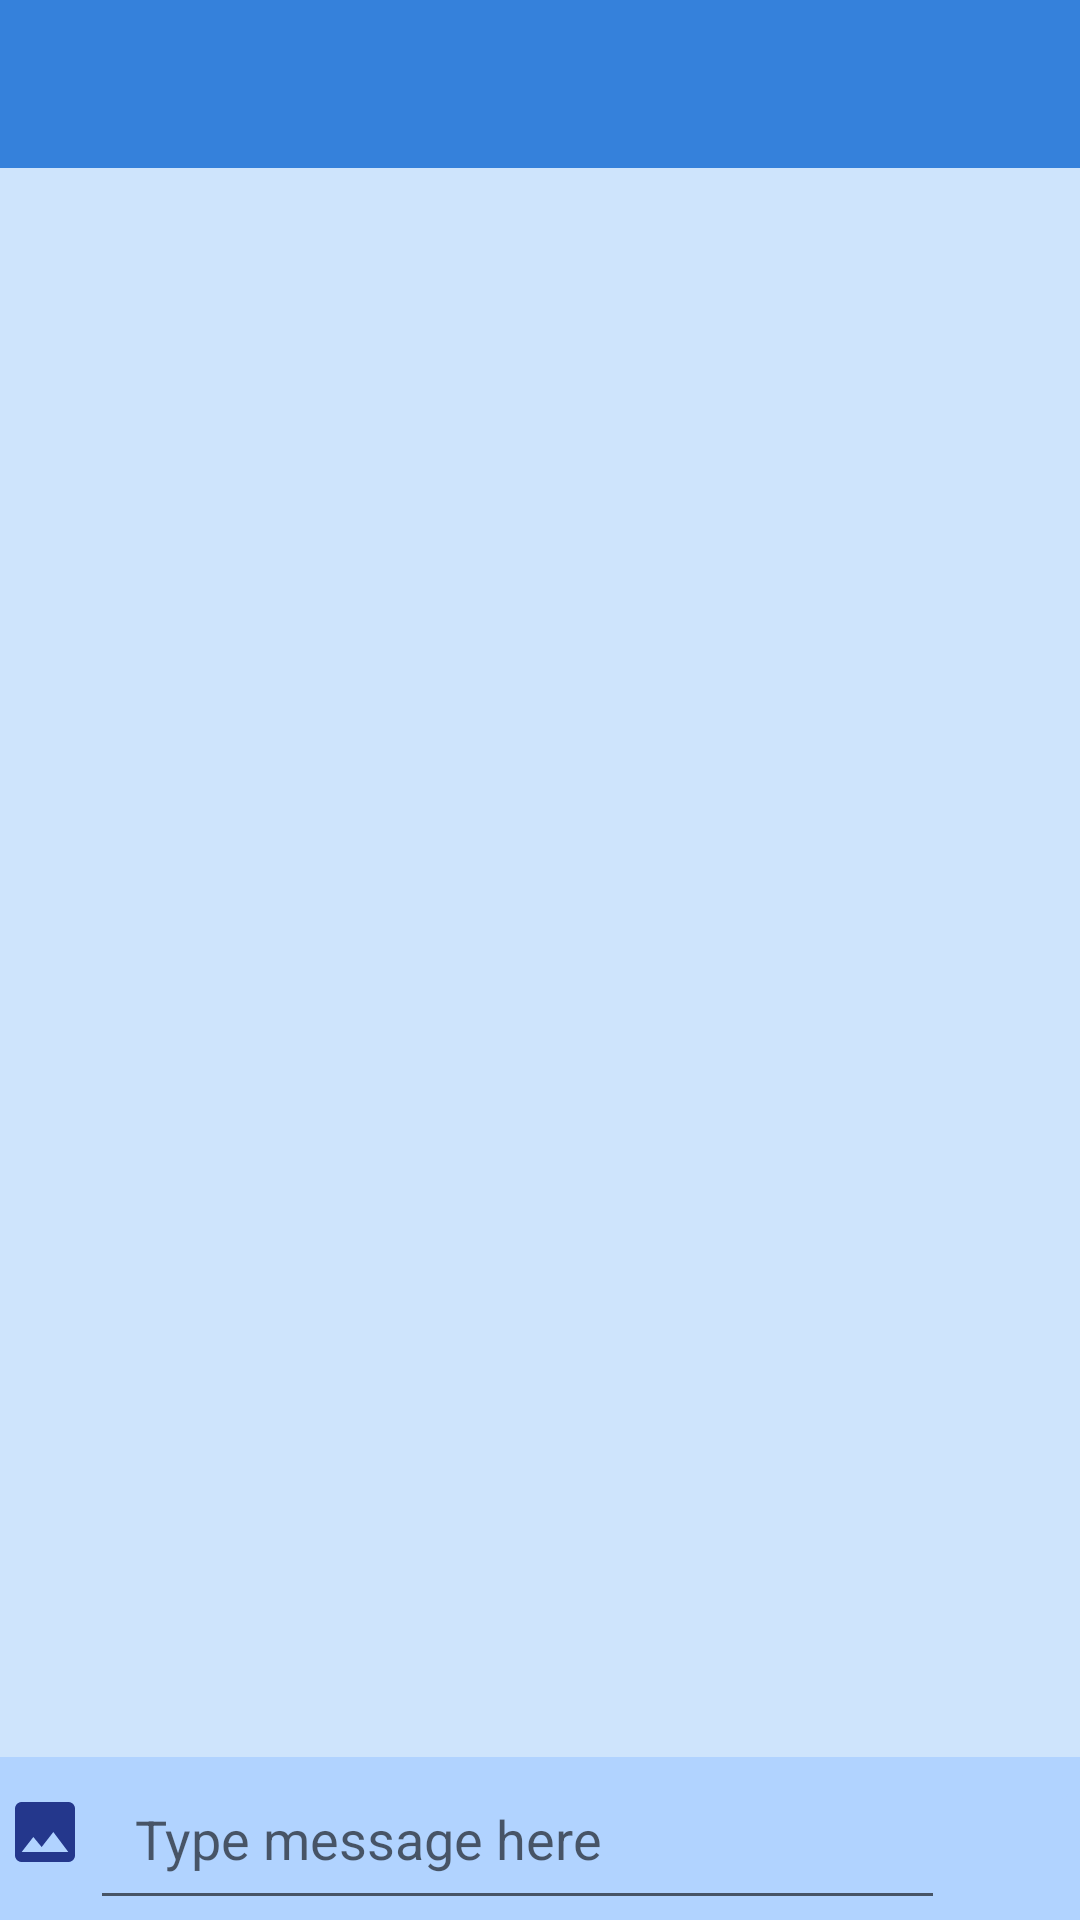

Where icons sit on this 1080 × 1920 app screen, as (x1, y1, x2, y2):
Send image button: (15, 1802, 75, 1862)
